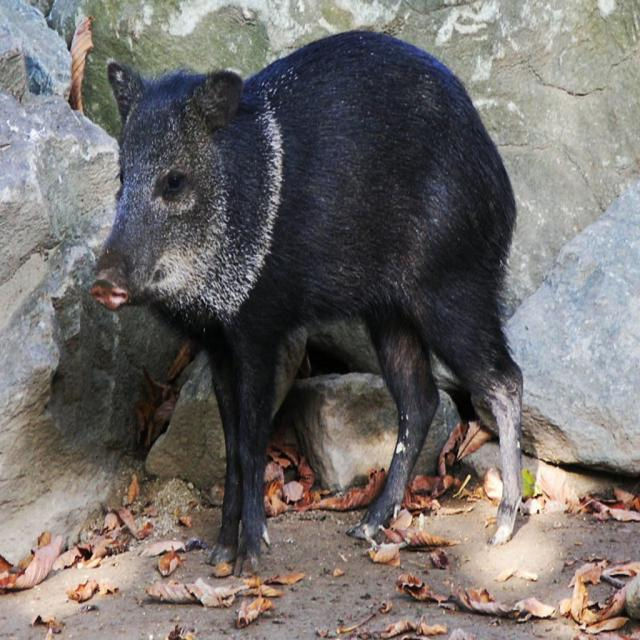Pig: (88, 28, 524, 577)
